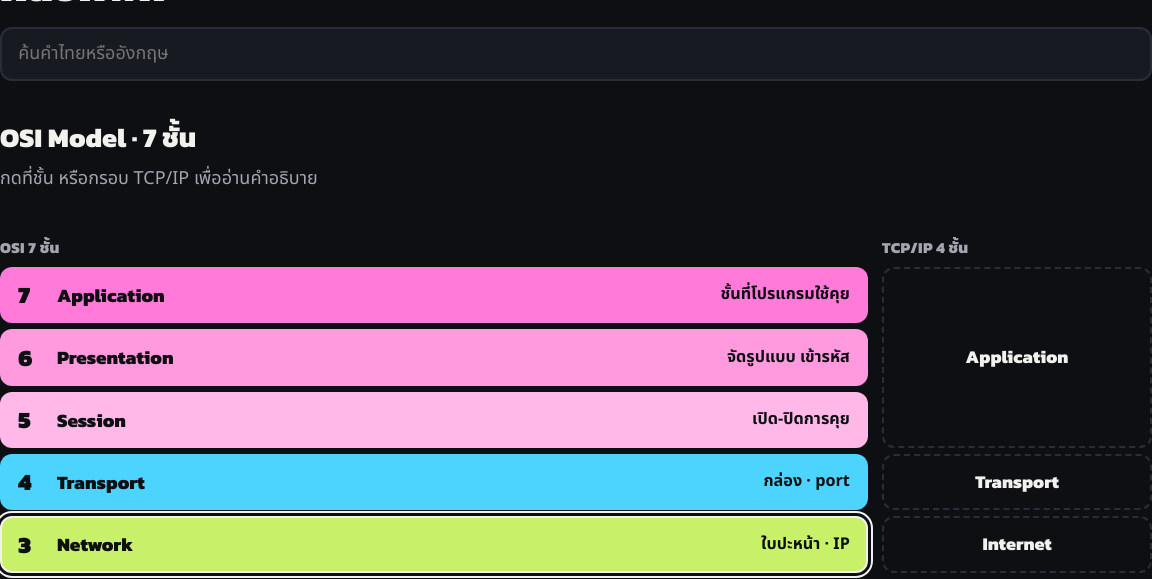
Test: GlossaryPage: ส่วน OSI › กดกรอบ TCP/IP แล้วเห็นคำอธิบายของชั้น TCP/IP นั้น
This screenshot has width=1152, height=579.
Click the button with class "tcp-box" showing "Internet" at (1017, 544), box [882,516,1151,573]
(page scrolled)
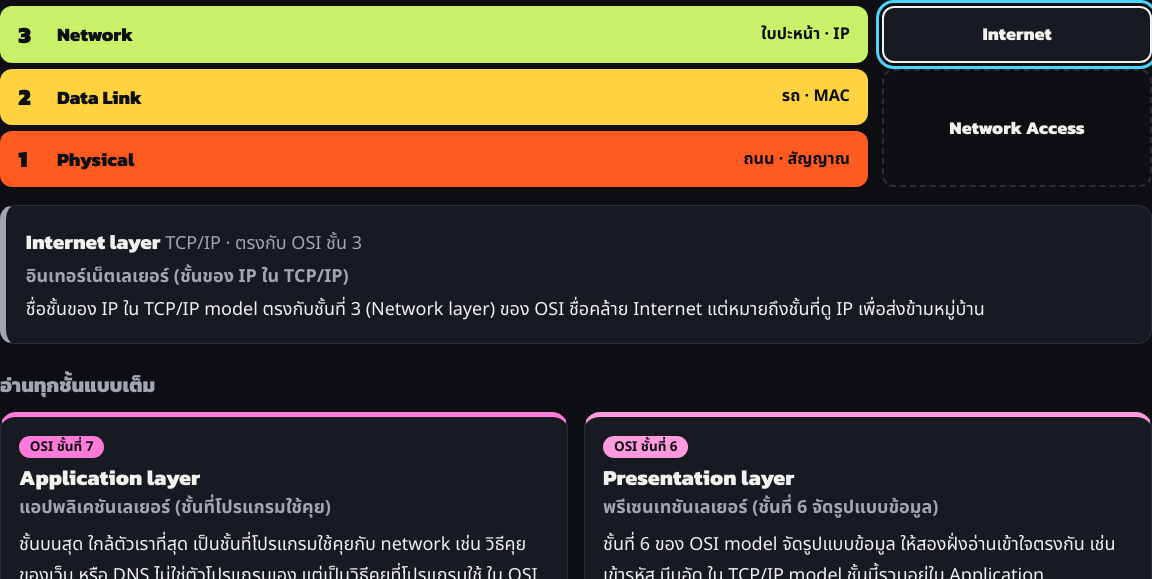
Expected: the text "อินเทอร์เน็ตเลเยอร์ (ชั้นของ IP ใน TCP/IP)" is shown, [26,263,349,290]
Expected: the text "ชื่อชั้นของ IP ใน TCP/IP model ตรงกับชั้นที่ 3 (Network layer) ของ OSI ชื่อคล้าย Internet แต่หมายถึงชั้นที่ดู IP เพื่อส่" is shown, [26,296,985,323]
